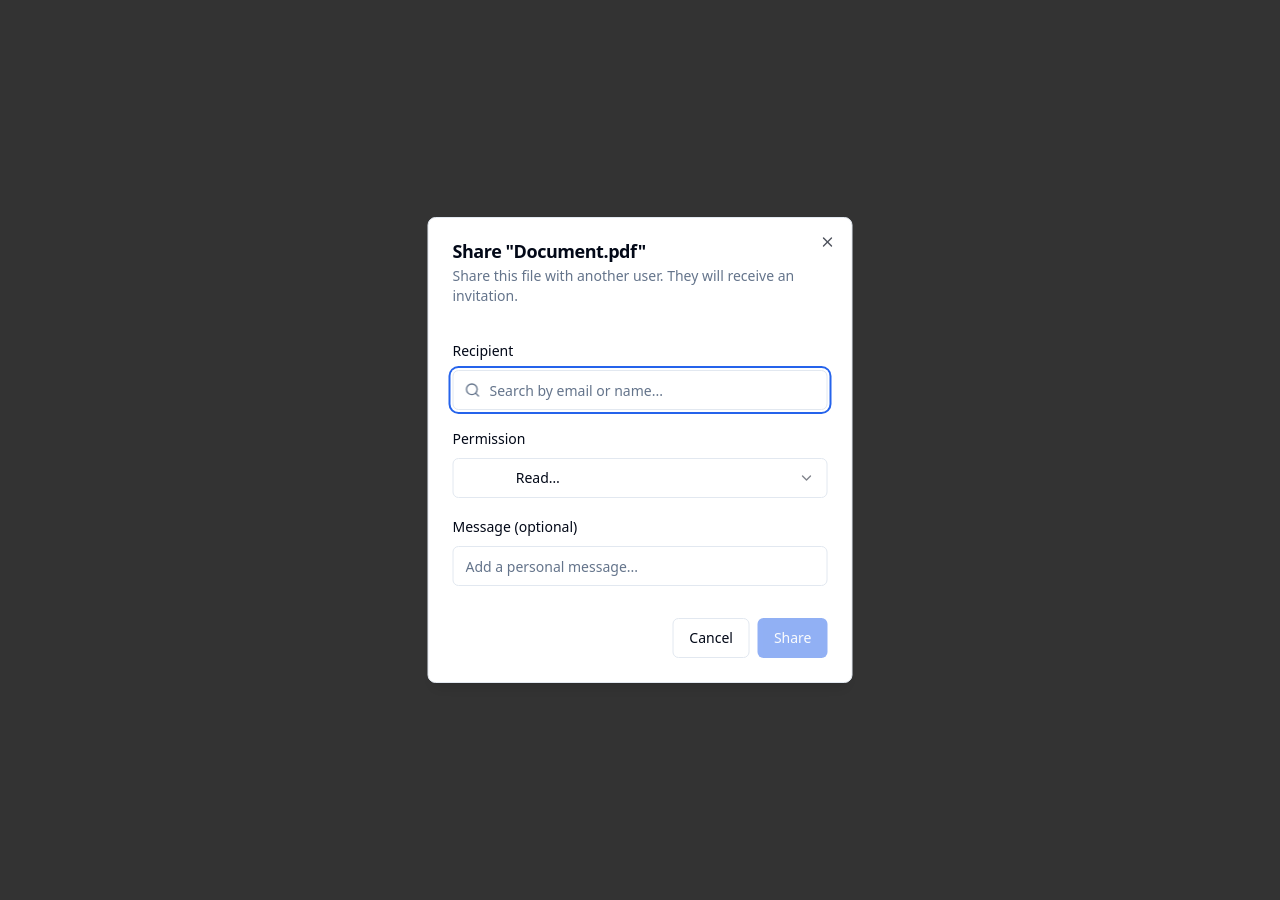
it: ShareDialog › should show search results after typing
Type "alice" into the field with placeholder "Search by email or name..." at (640, 390), box [452,370,828,410]
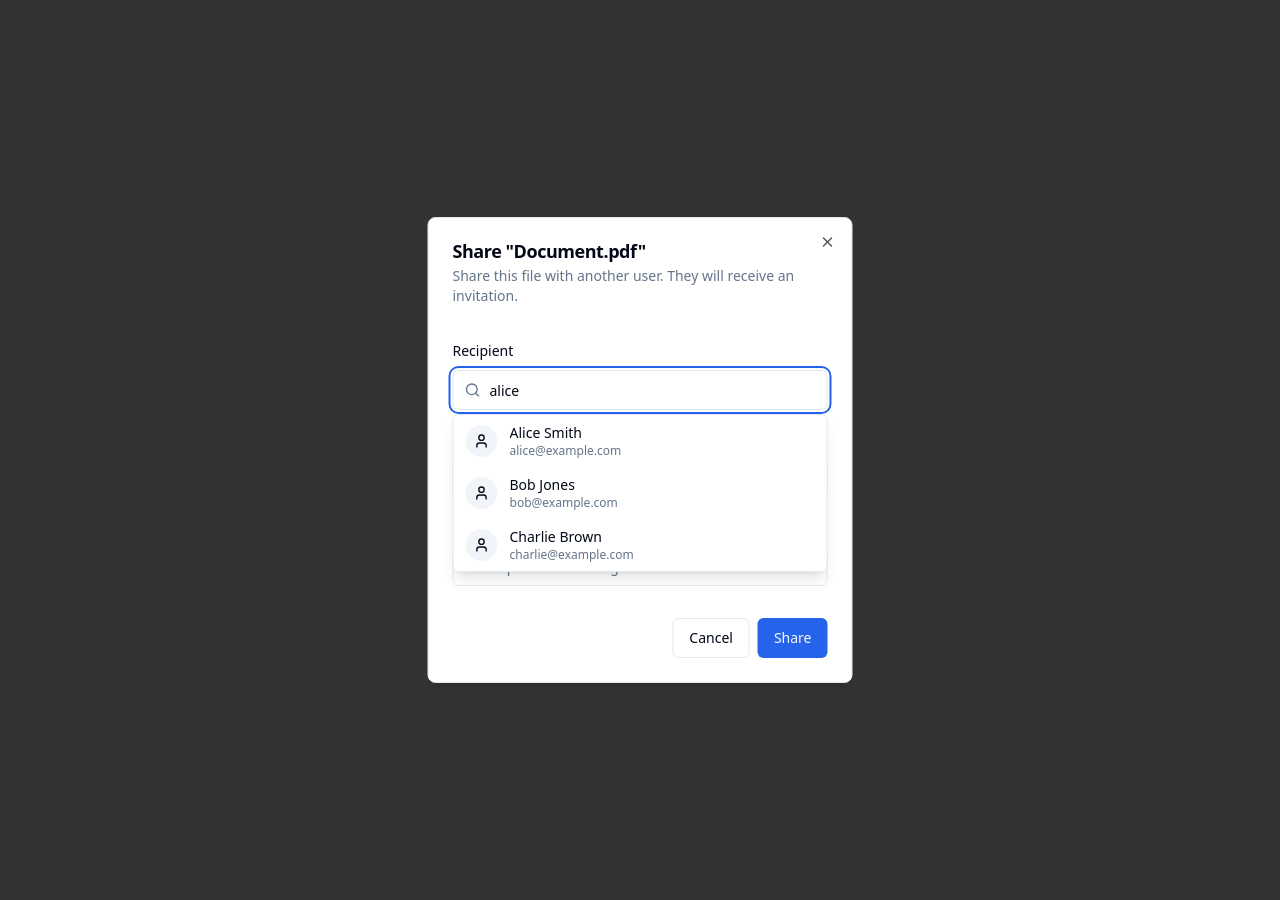
Expected: the text "Alice Smith" is shown, [510,423,582,442]
Expected: the text "alice@example.com" is shown, [510,442,621,459]
